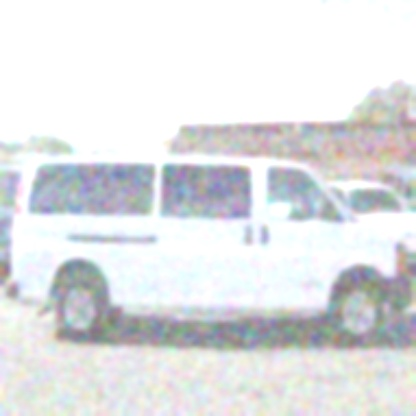Vehicle: (5, 152, 410, 348)
